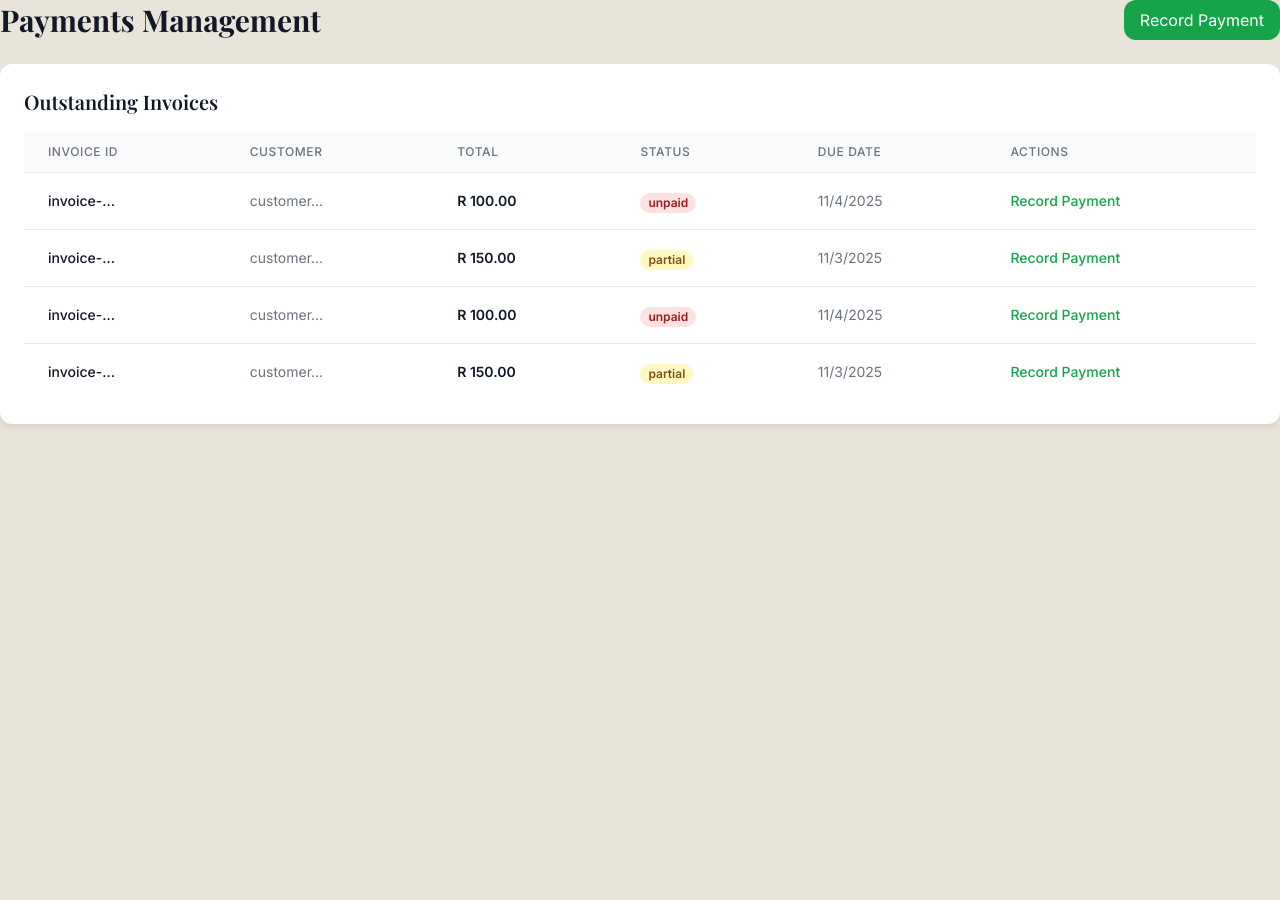
Scenario: PaymentsManagement › shows overpayment warning
Click the button "Record Payment" in the row of "Payments Management".
click(1202, 20)  # box x1=1124 y1=0 x2=1279 y2=40
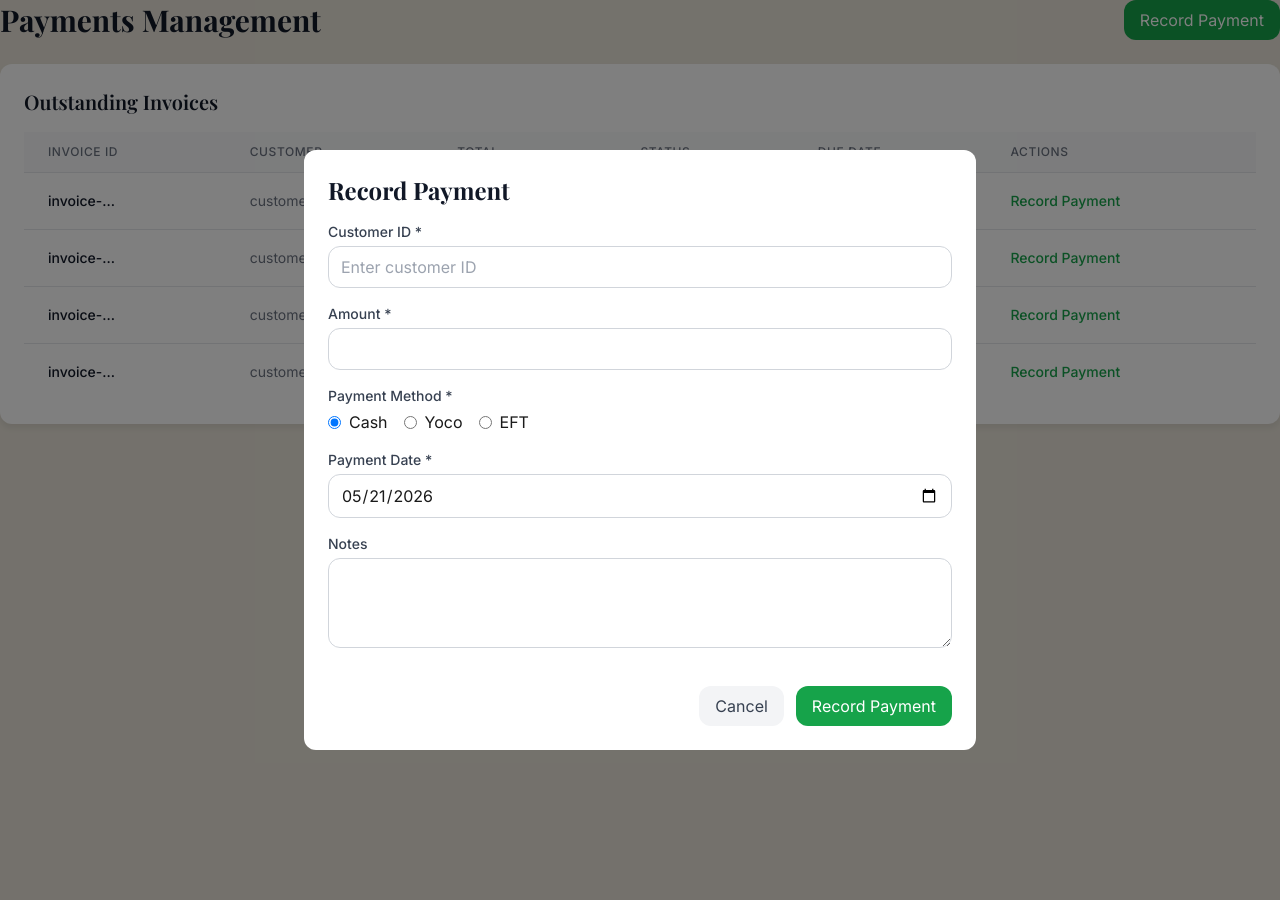
Type "customer-1" into the field with placeholder "Enter customer ID".
click(640, 267); type("customer-1")  # box x1=328 y1=246 x2=952 y2=288
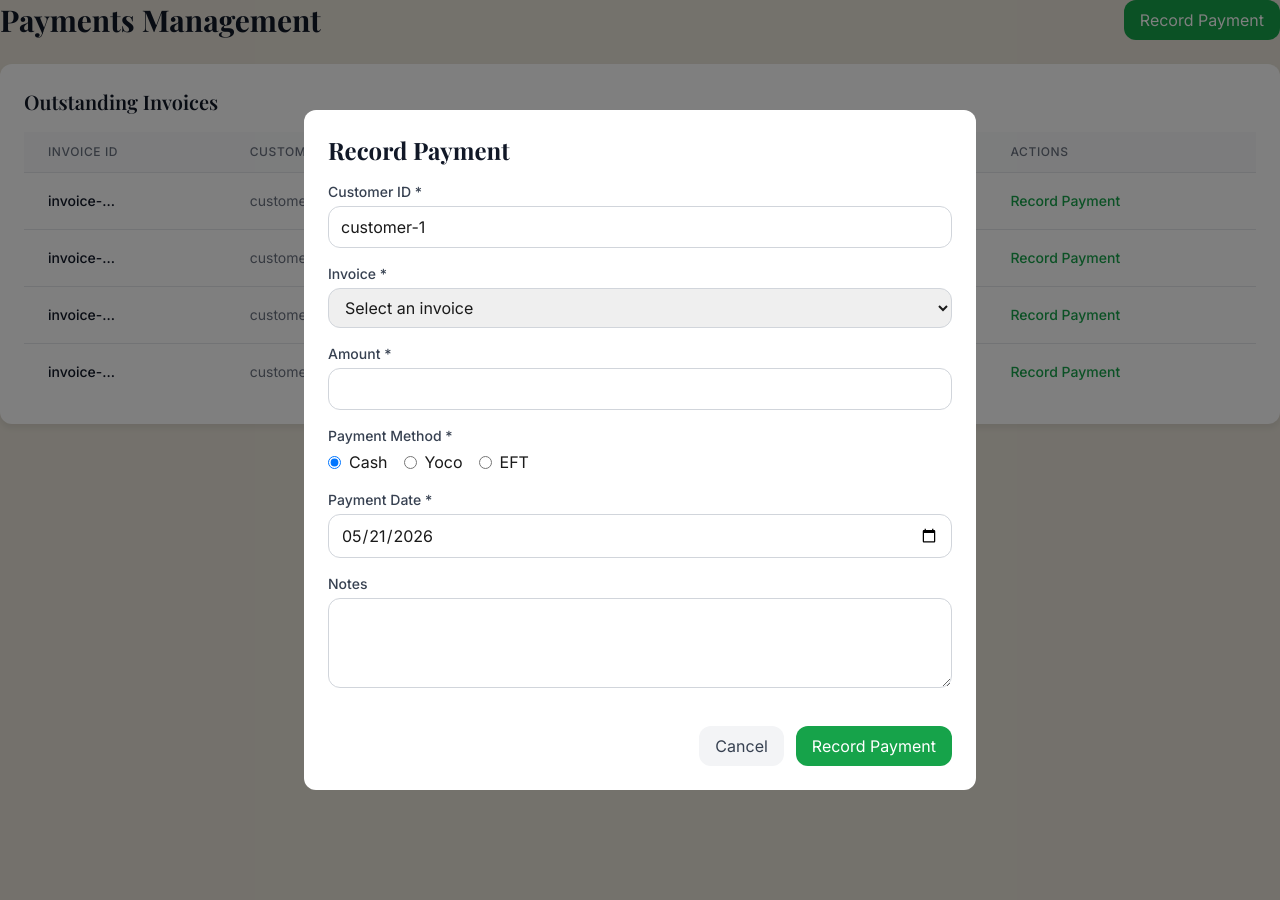
Select "invoice-... - R 100.00 (unpaid)" in the dropdown at (640, 308), box x1=328 y1=288 x2=952 y2=328
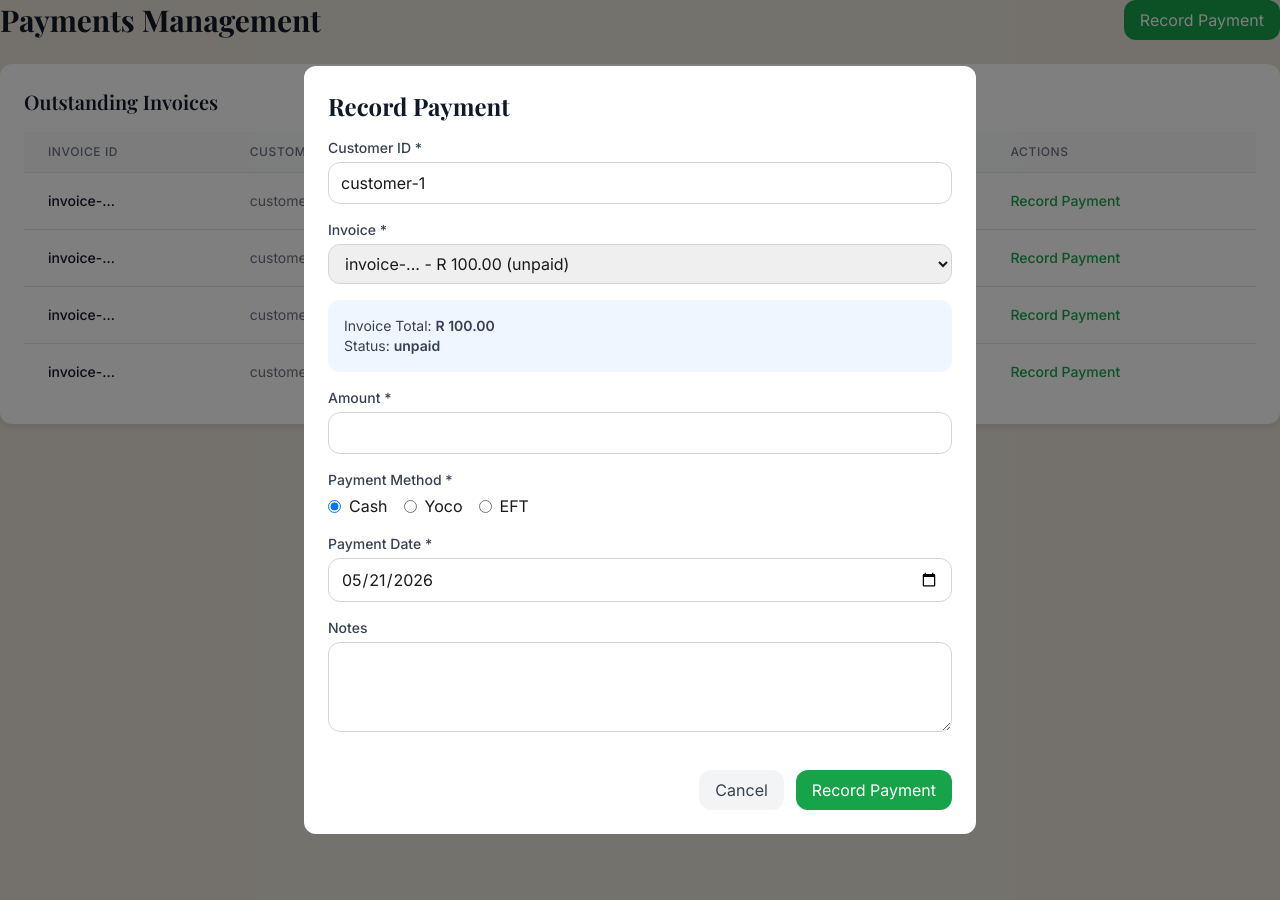
Type "150" into the number field.
click(640, 433); type("150")  # box x1=328 y1=412 x2=952 y2=454
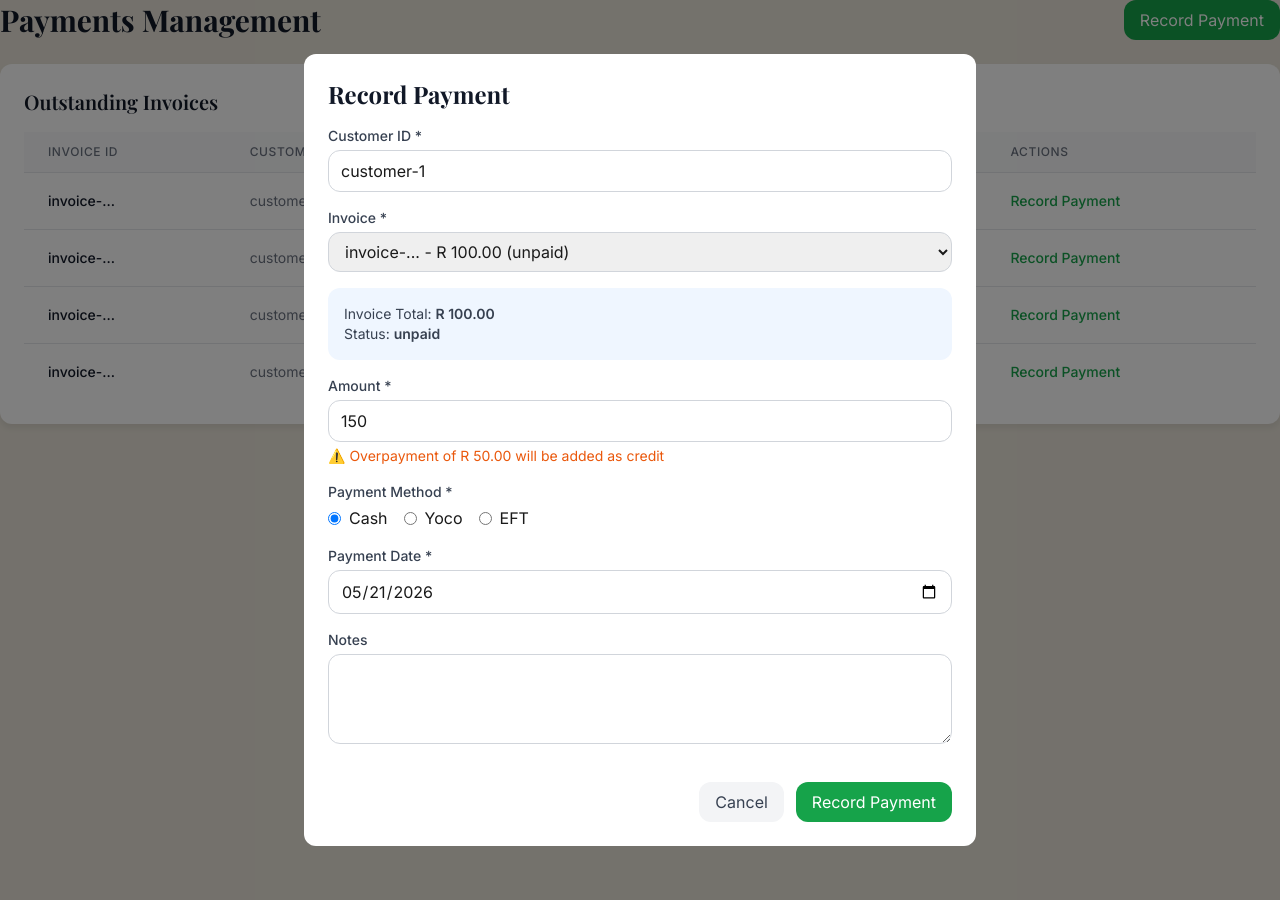
Expected: the text "⚠️ Overpayment of R 50.00 will be added as credit" is shown, x1=328 y1=447 x2=664 y2=464
